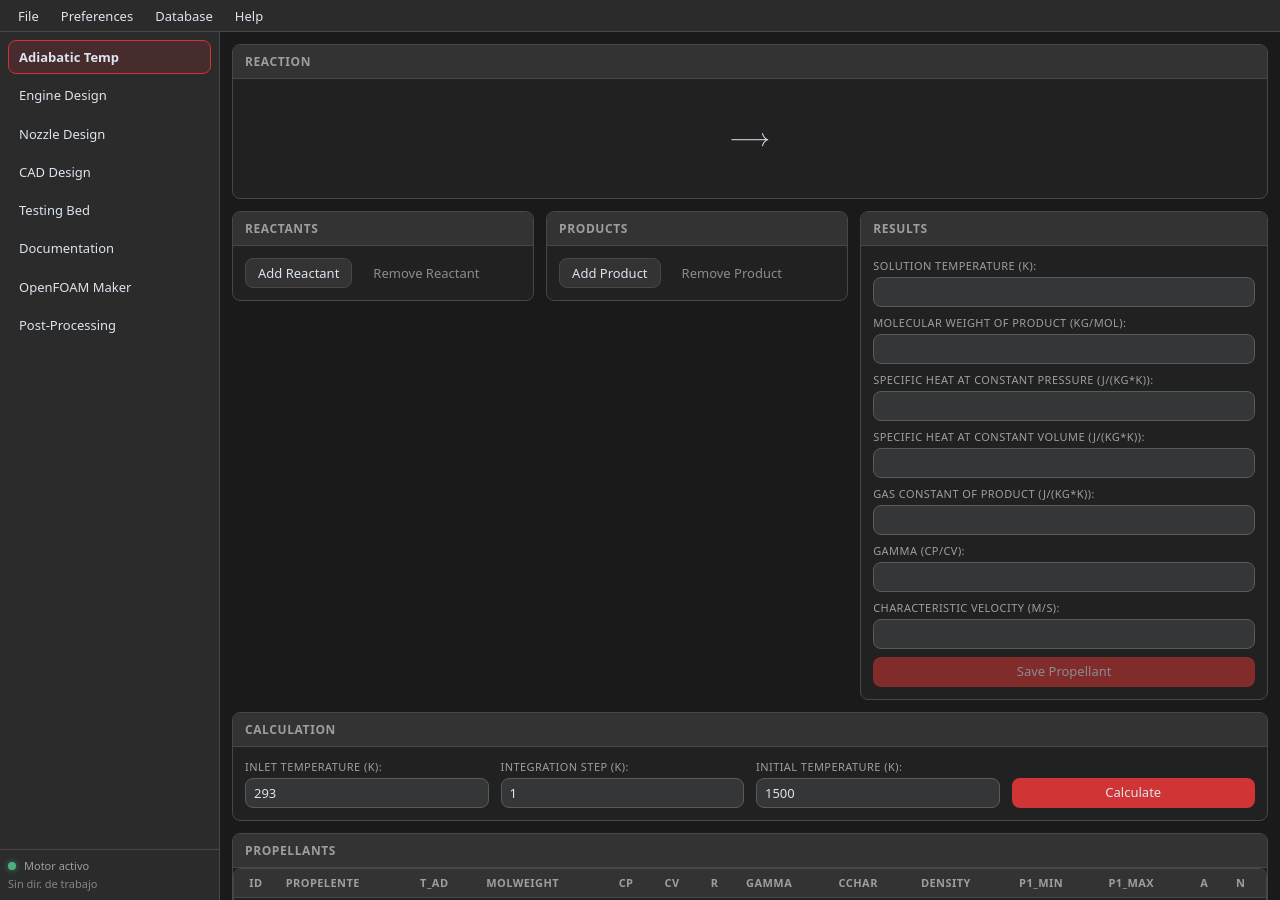
Test: AppShell › cambia de módulo y persiste la pestaña activa
This screenshot has width=1280, height=900.
Click the button with test id "nav-engine" at (110, 95), box [8, 78, 211, 113]
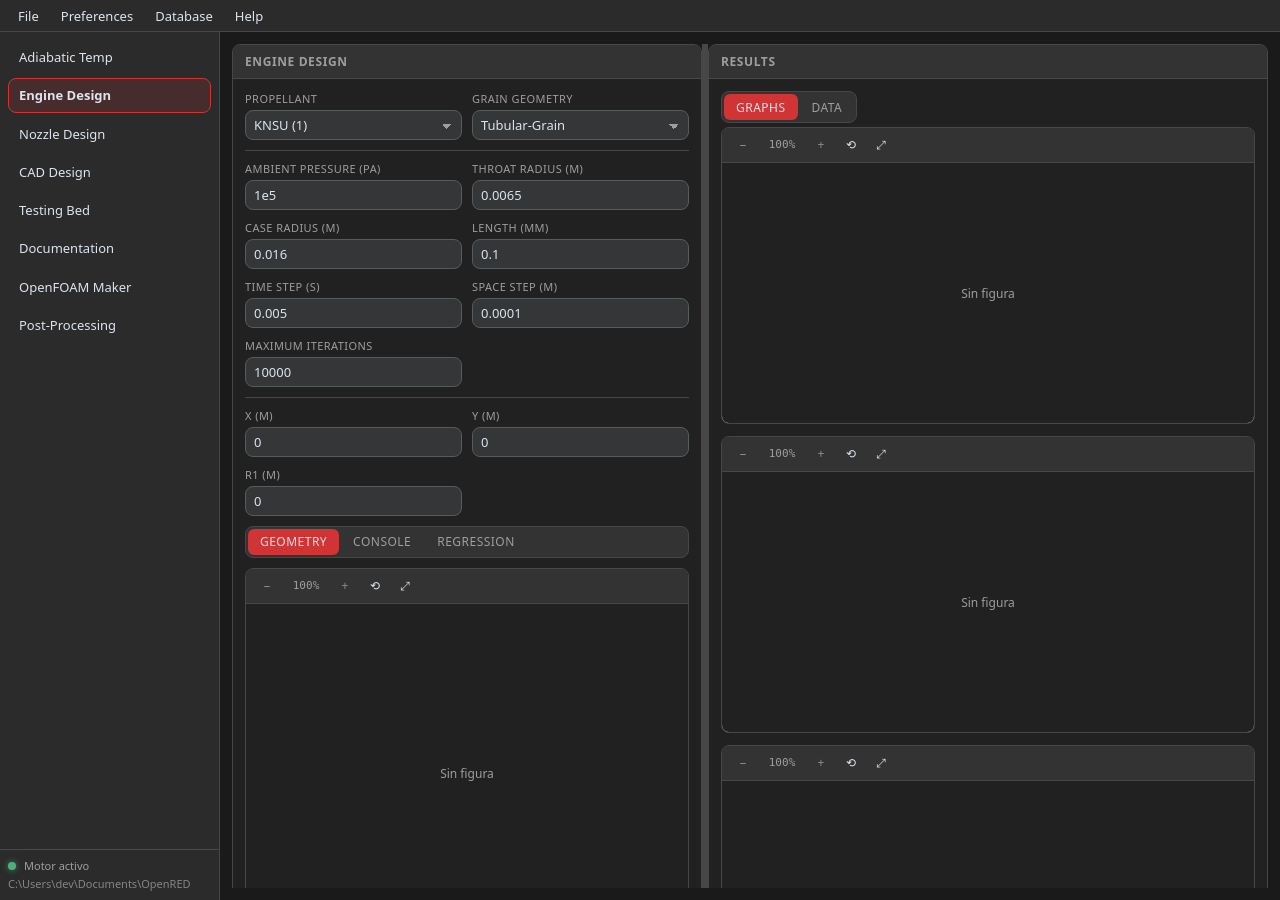
Now the heading "Engine Design" is shown, box [245, 53, 348, 70]
